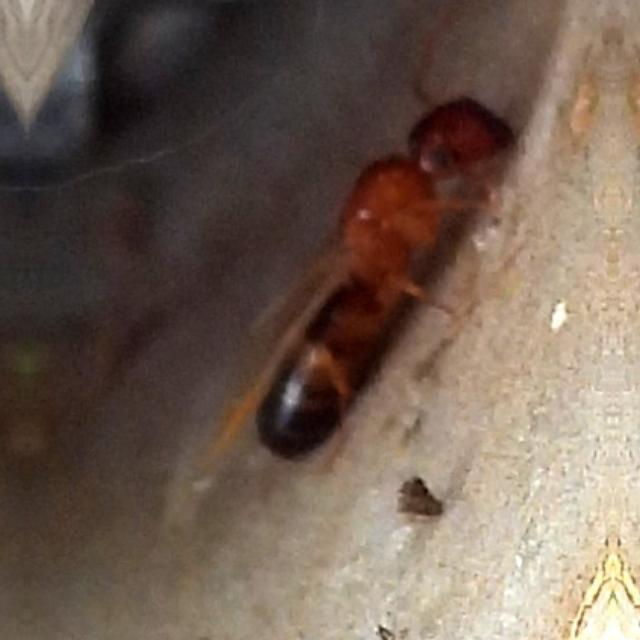Colobopsis: (203, 58, 522, 494)
